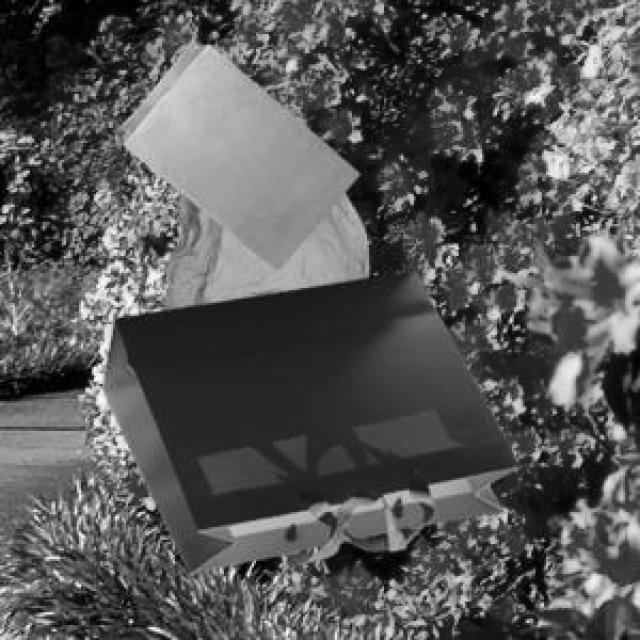paper: (100, 267, 514, 570), (113, 34, 354, 267)
